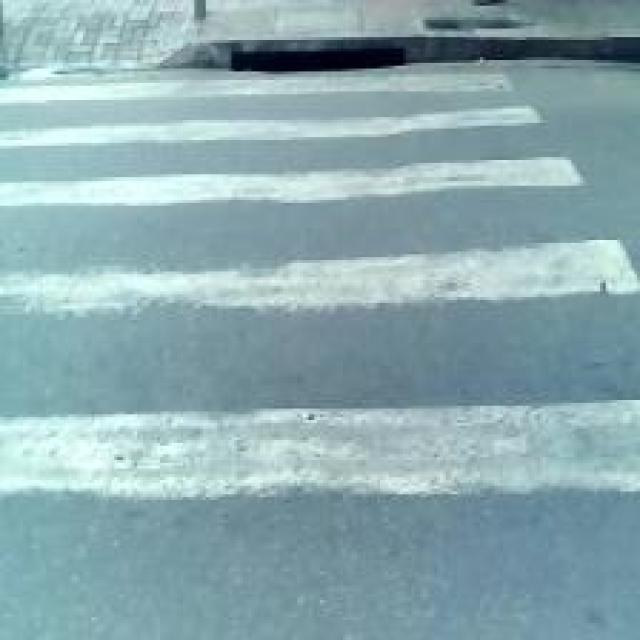zebra: (8, 80, 546, 589)
